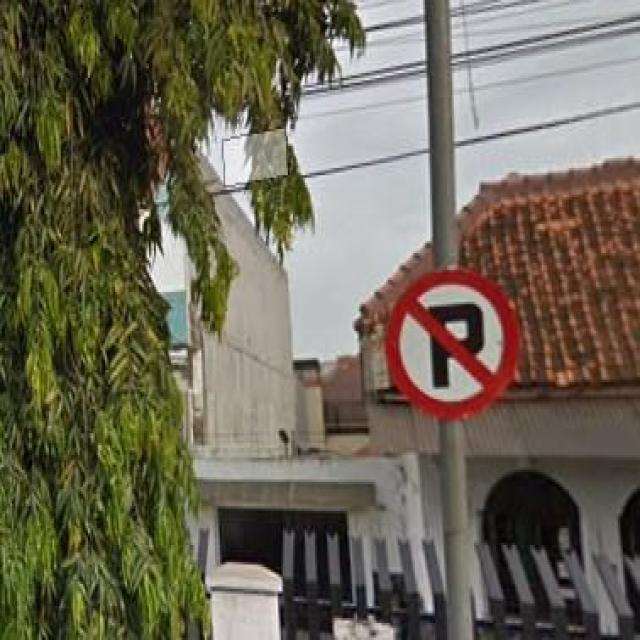traffic sign: (388, 273, 514, 424)
